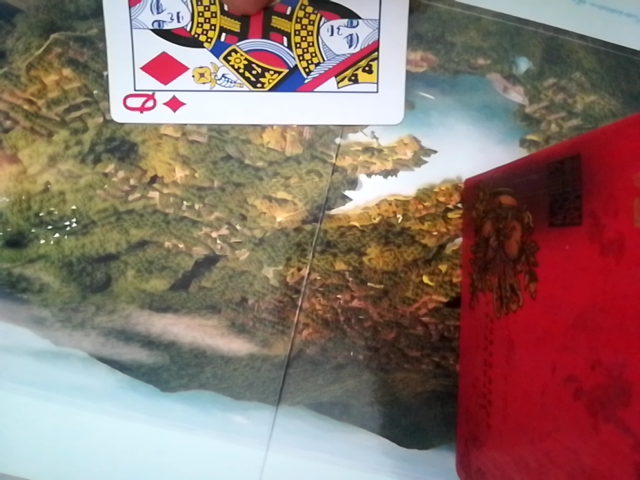fk q: (95, 4, 409, 133)
